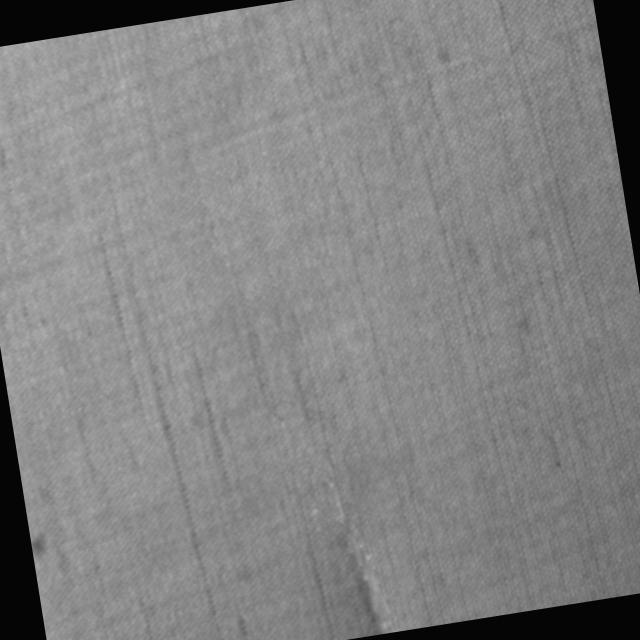thread error: (323, 470, 392, 638)
